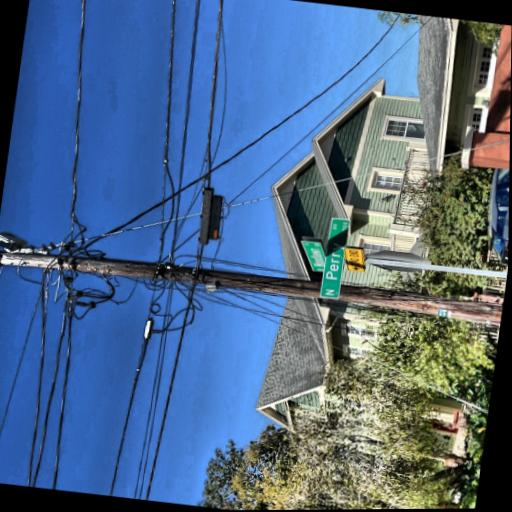pole: (50, 53, 137, 493)
